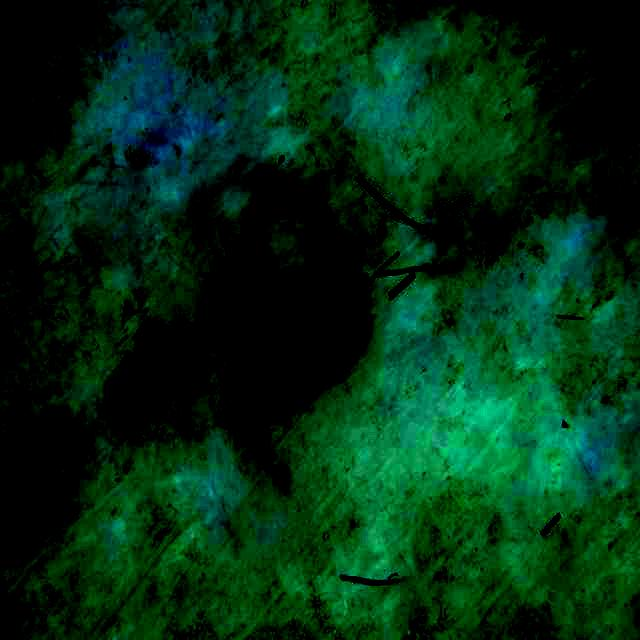AKIEC: (213, 166, 367, 457), (105, 316, 203, 436)
